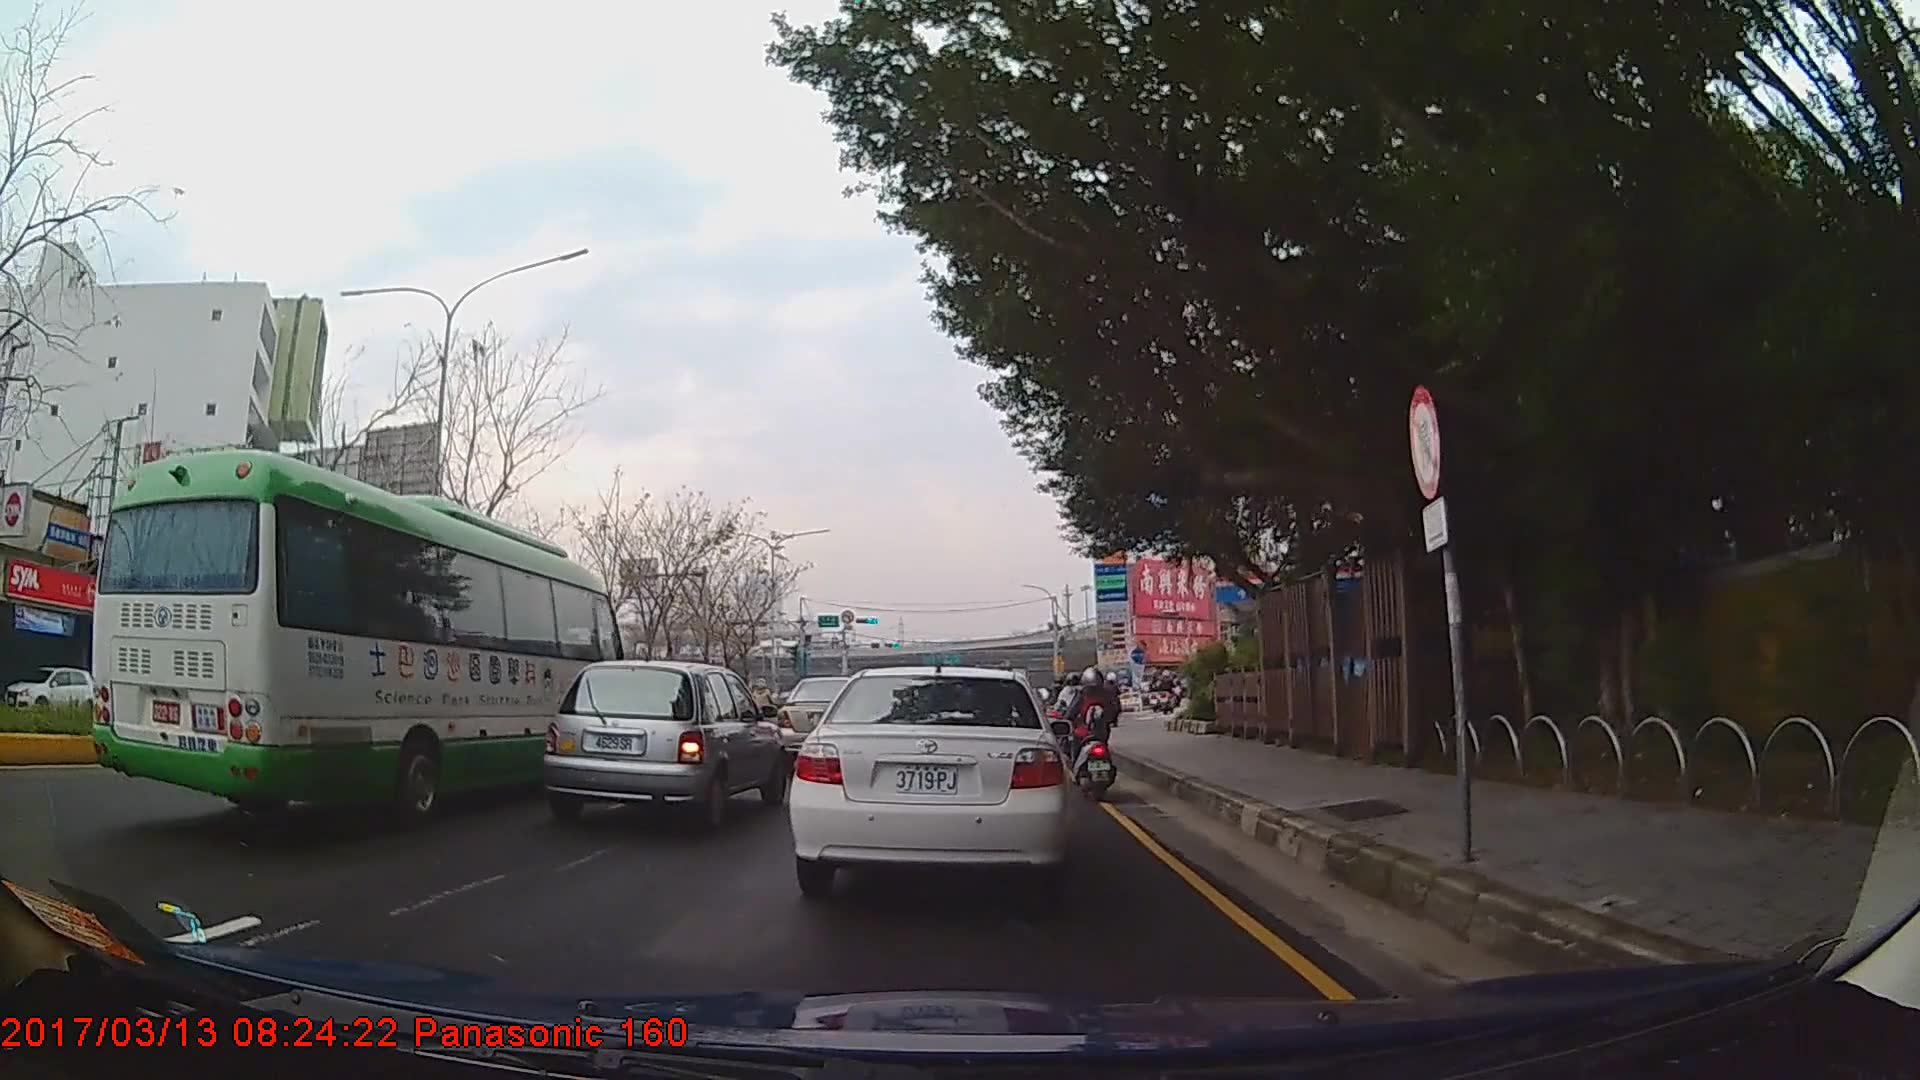rider: (1070, 665, 1117, 805), (1058, 673, 1090, 765), (1159, 670, 1179, 718)
vehicle: (90, 451, 626, 829), (786, 664, 1073, 896), (543, 655, 786, 833), (775, 674, 872, 765), (2, 662, 103, 719)
